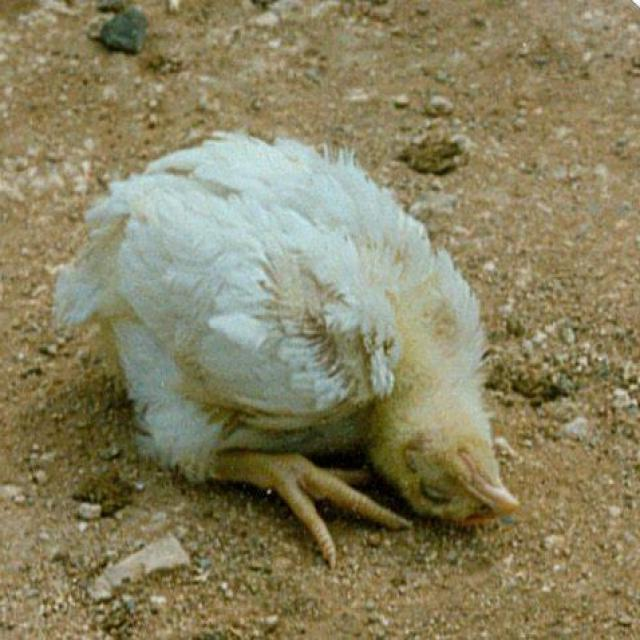poussin: (54, 119, 524, 556)
